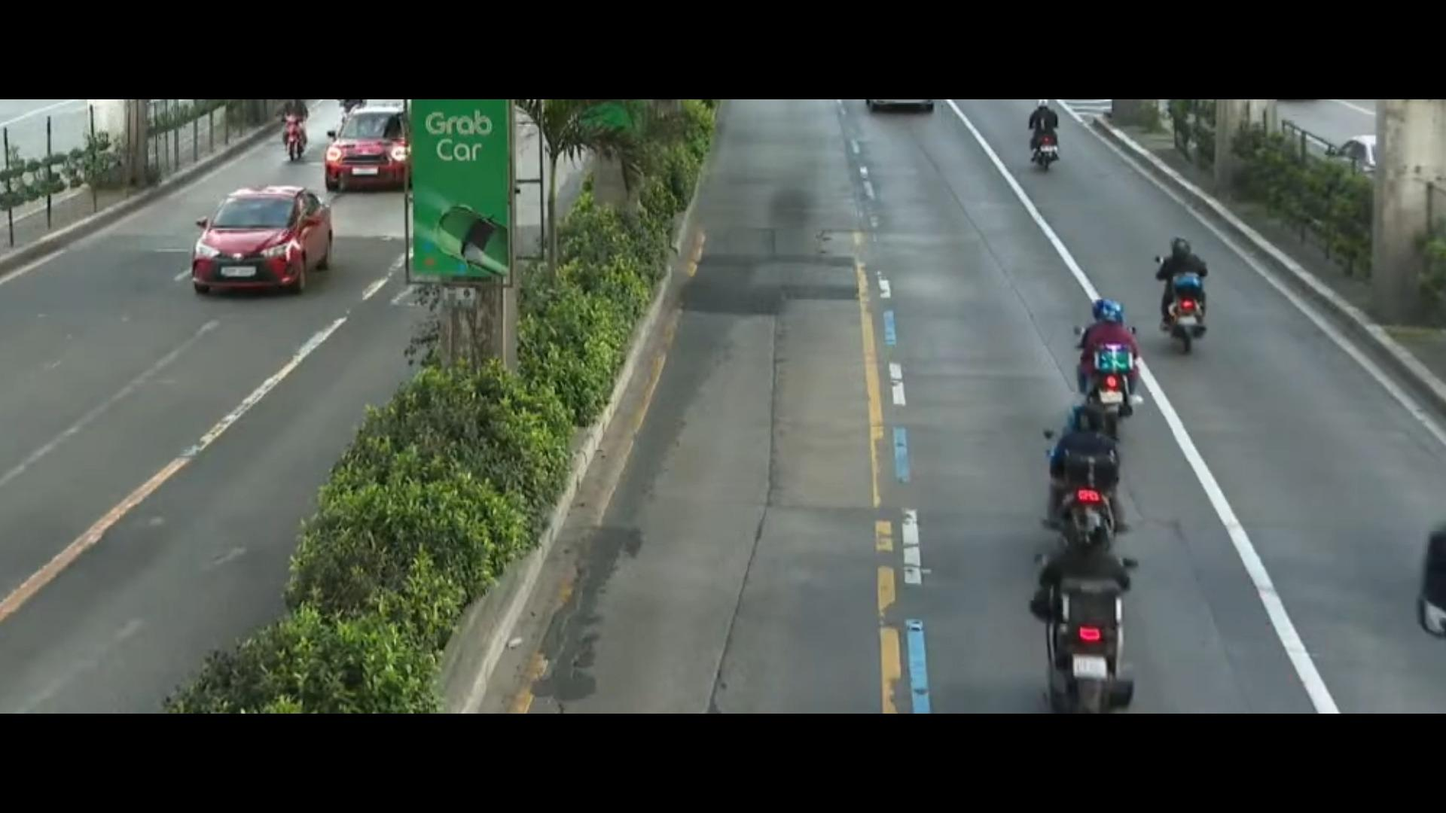Motorcycle: (1014, 477, 1141, 712), (1022, 395, 1150, 542), (1135, 226, 1236, 371), (1054, 300, 1164, 419), (1015, 96, 1074, 181), (257, 106, 320, 169)
SUV: (328, 106, 409, 203)
Sedan: (156, 172, 336, 312)
